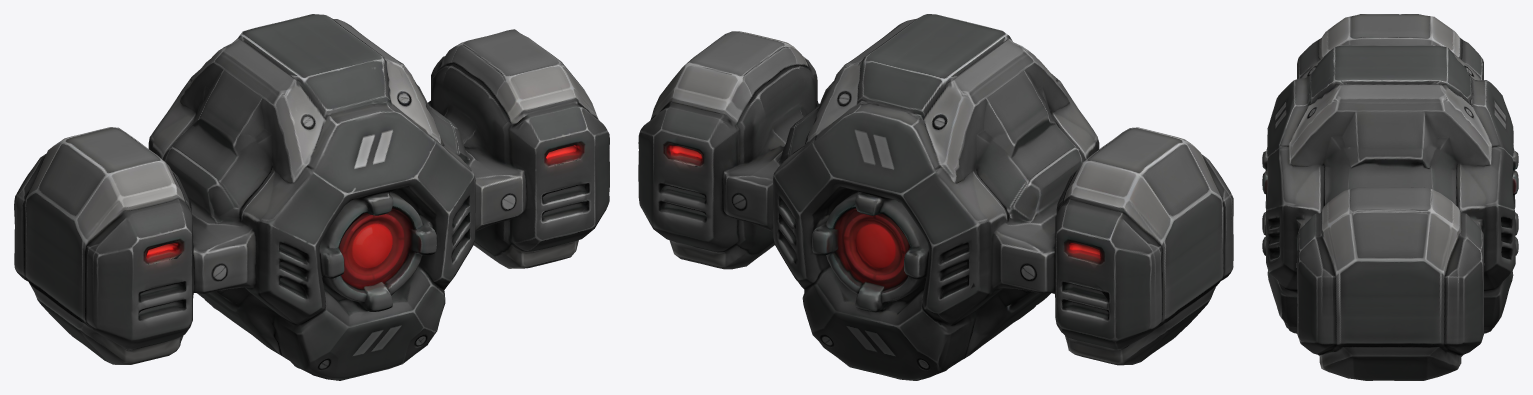
Rendered from sci-fi_drone_3d_model.fbx.
The picture shows the model from 3 angles, left to right: view 1: azimuth 30°, elevation 25°; view 2: azimuth 150°, elevation 25°; view 3: azimuth 270°, elevation 25°; orthographic projection. The views are drawn at different scales.
Parts seen in each view (by area): view 1: tripo_node_3fc2af1b; view 2: tripo_node_3fc2af1b; view 3: tripo_node_3fc2af1b.
Part boxes in pixels (bbox=[...]): tripo_node_3fc2af1b: bbox=[14, 14, 609, 380]; tripo_node_3fc2af1b: bbox=[638, 14, 1233, 380]; tripo_node_3fc2af1b: bbox=[1262, 14, 1518, 380].
Bounding box in the file's own units: 98.08 × 54.74 × 47.39.
1 material, 1 textured.
